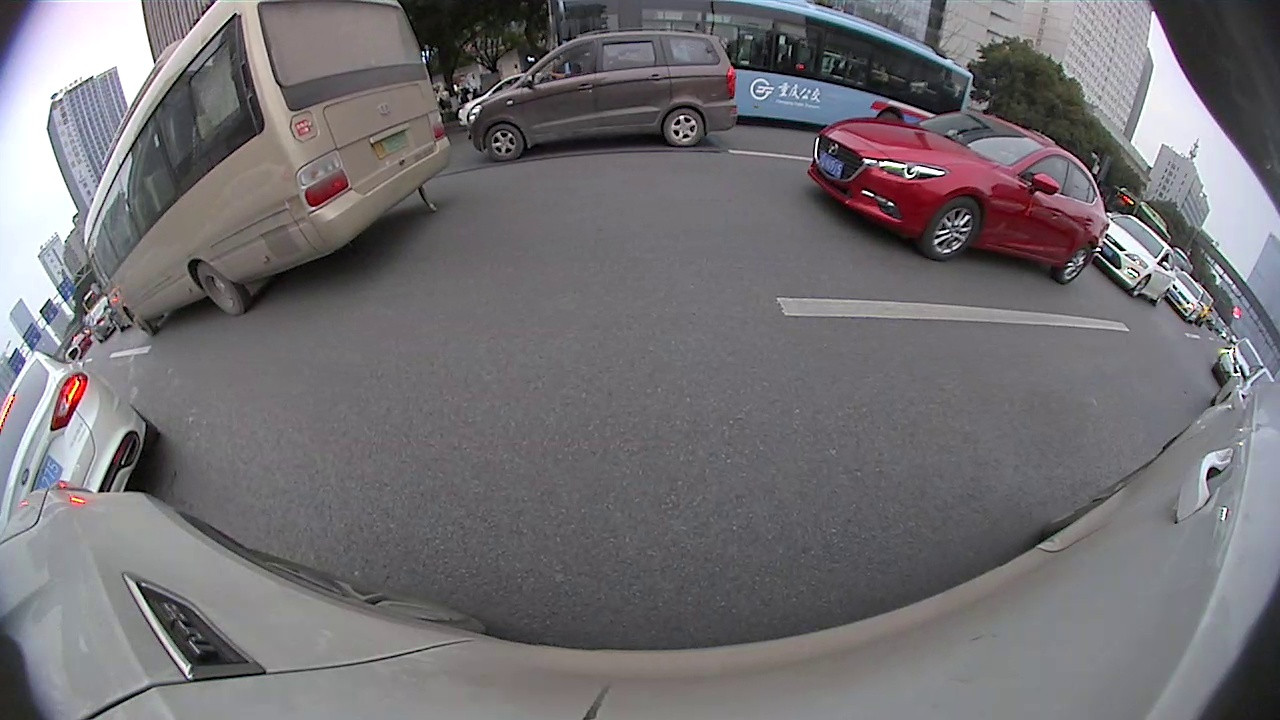bus: (88, 1, 446, 338), (534, 1, 971, 152)
car: (809, 113, 1107, 283), (468, 31, 737, 161), (2, 354, 157, 530), (1093, 217, 1173, 308)
front: (924, 199, 984, 261), (484, 121, 527, 160), (126, 309, 154, 340), (1133, 274, 1152, 294)
rear: (194, 261, 246, 317), (661, 107, 705, 144), (1061, 245, 1090, 283)
